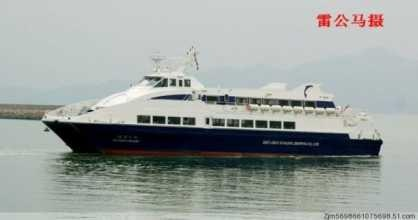yacht: (37, 60, 388, 162)
